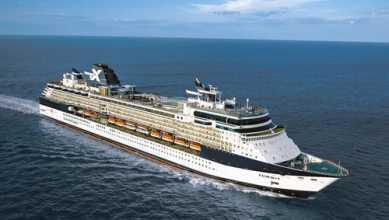youlun: (40, 51, 349, 193)
